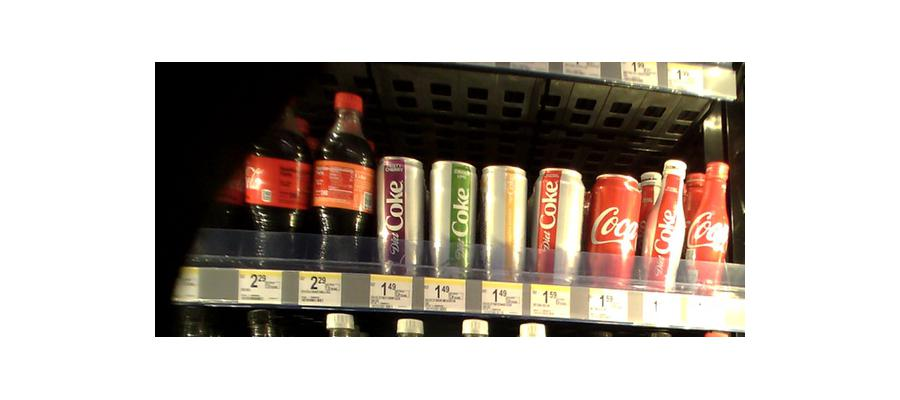bottle: (245, 89, 311, 268), (313, 91, 372, 269), (587, 170, 641, 287), (532, 167, 584, 285), (689, 157, 732, 296), (644, 161, 689, 293), (376, 151, 424, 273), (480, 165, 530, 280), (429, 159, 477, 278)
